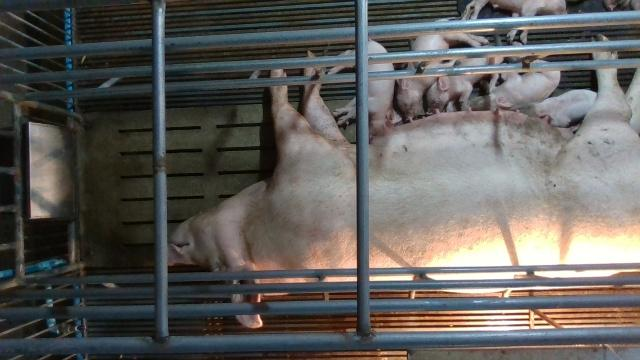piglet: (399, 15, 488, 119), (329, 38, 401, 142), (471, 59, 561, 113), (427, 56, 504, 116), (461, 0, 568, 42), (527, 87, 597, 129)
sow-sleep-lactate: (168, 33, 640, 330)
